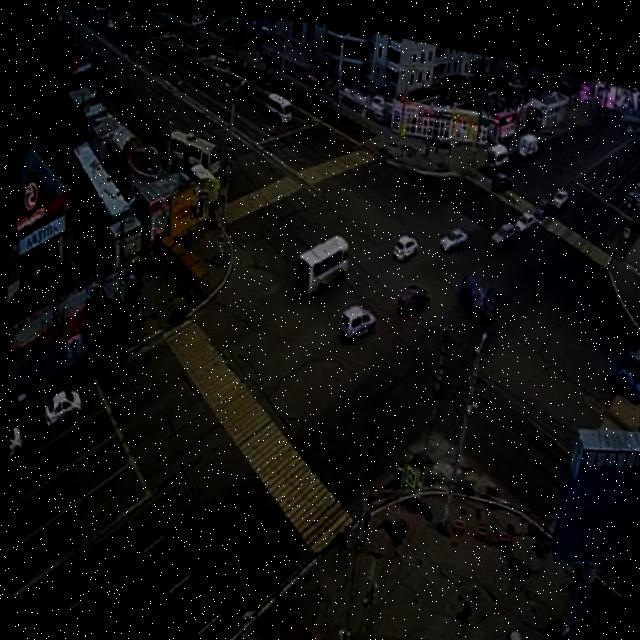Car Accident Detector - v4 Generation1 Exported: (453, 264, 502, 318)
